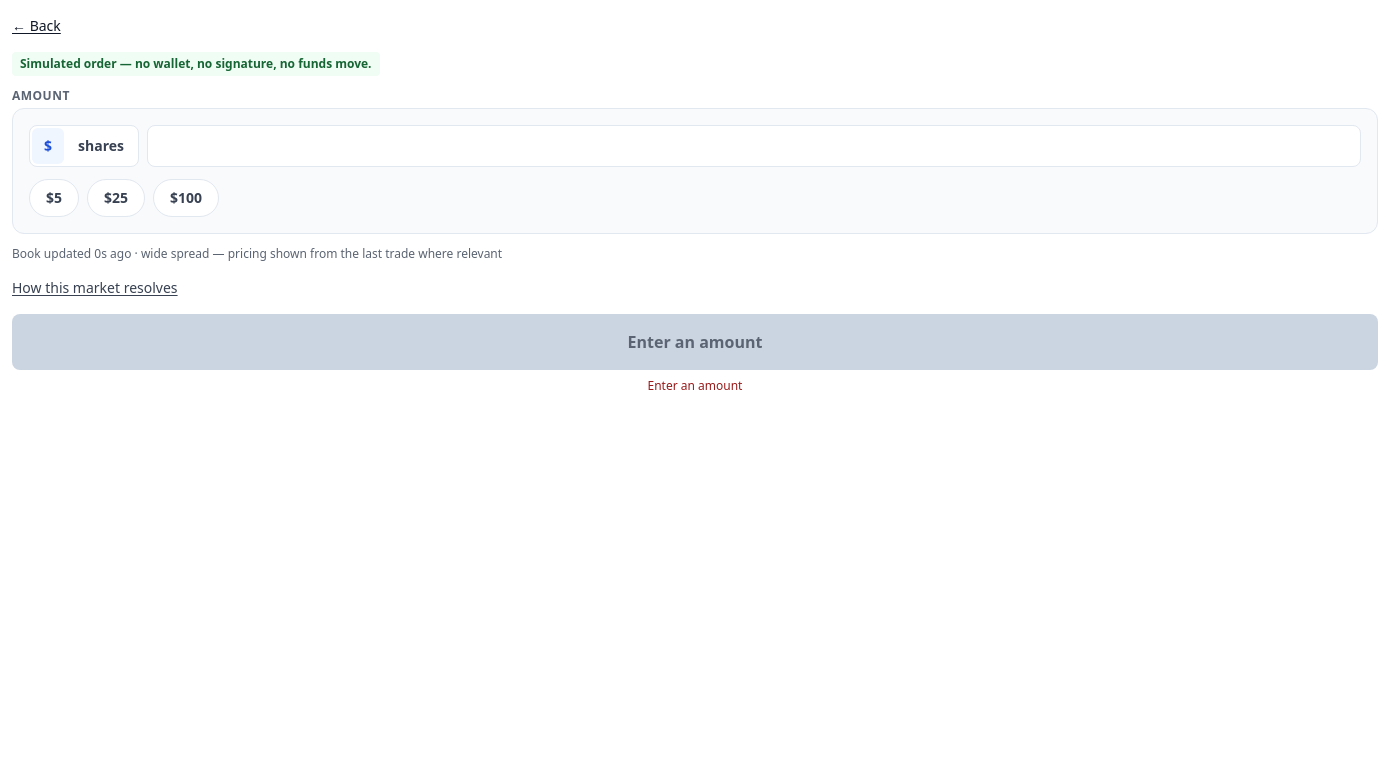
Test: OrderPreviewState › shows the last traded price, not top of book, when the spread is wider than $0.10
Type "60" into the number field. click: x=754, y=146
box: [147,125,1361,167]
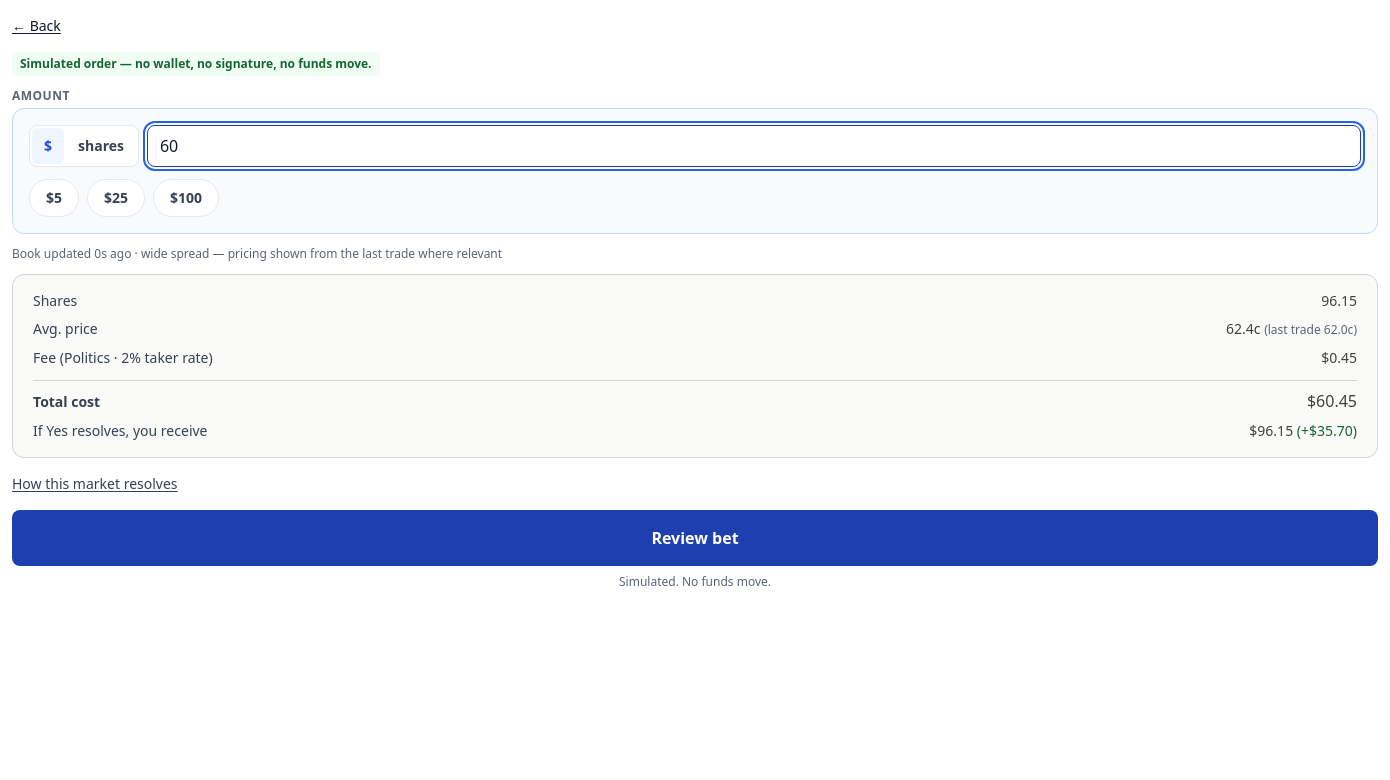
Expected: the text "(last trade 62.0c)" is shown, [1264,321,1357,338]
